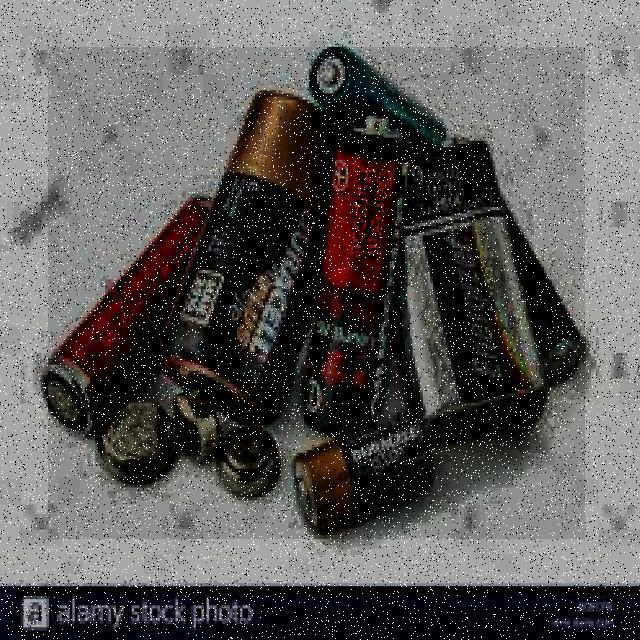B3: (45, 31, 599, 543)
